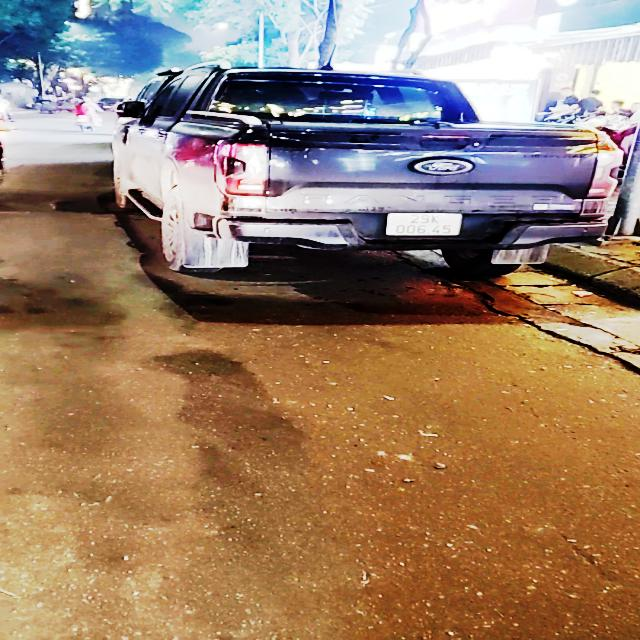license_plate: (386, 213, 465, 238)
